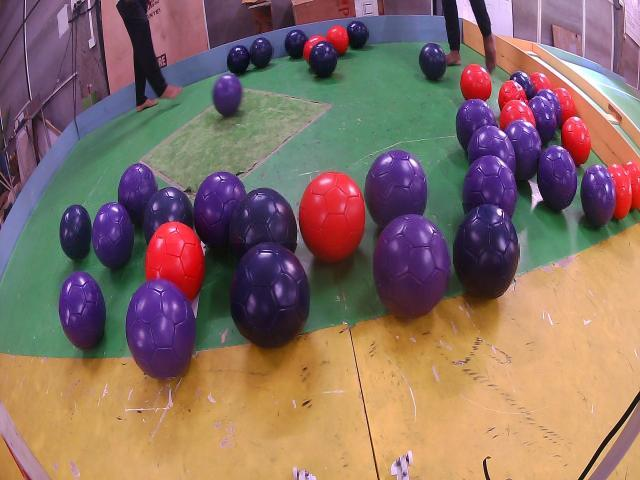jambhalya: (374, 214, 449, 319), (126, 279, 196, 379), (365, 150, 428, 228), (194, 172, 246, 248), (59, 272, 106, 349), (462, 155, 518, 218), (91, 202, 134, 268), (537, 145, 578, 210), (118, 164, 157, 225), (505, 120, 542, 180), (580, 165, 616, 226), (469, 127, 516, 173), (456, 100, 497, 151), (529, 97, 556, 144), (213, 73, 242, 115), (537, 90, 561, 125)
kaalyya: (230, 244, 310, 348), (454, 204, 519, 298), (230, 189, 298, 258), (143, 187, 194, 243), (59, 205, 91, 261), (310, 40, 338, 78), (420, 44, 447, 80), (510, 70, 534, 100), (250, 37, 273, 68), (227, 45, 250, 75), (285, 30, 307, 58), (347, 20, 368, 48)
